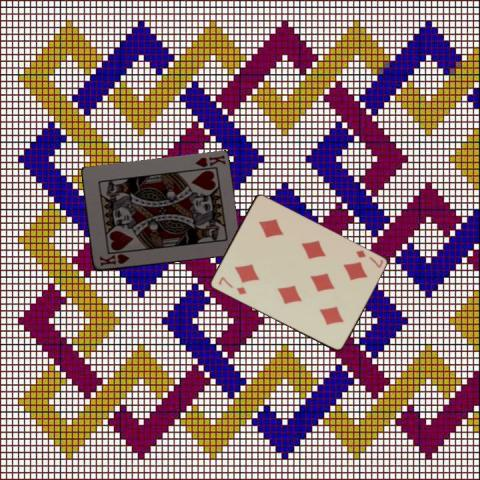7d: (215, 274, 248, 296), (353, 248, 384, 270)
Kh: (192, 152, 227, 169), (96, 251, 130, 268)
